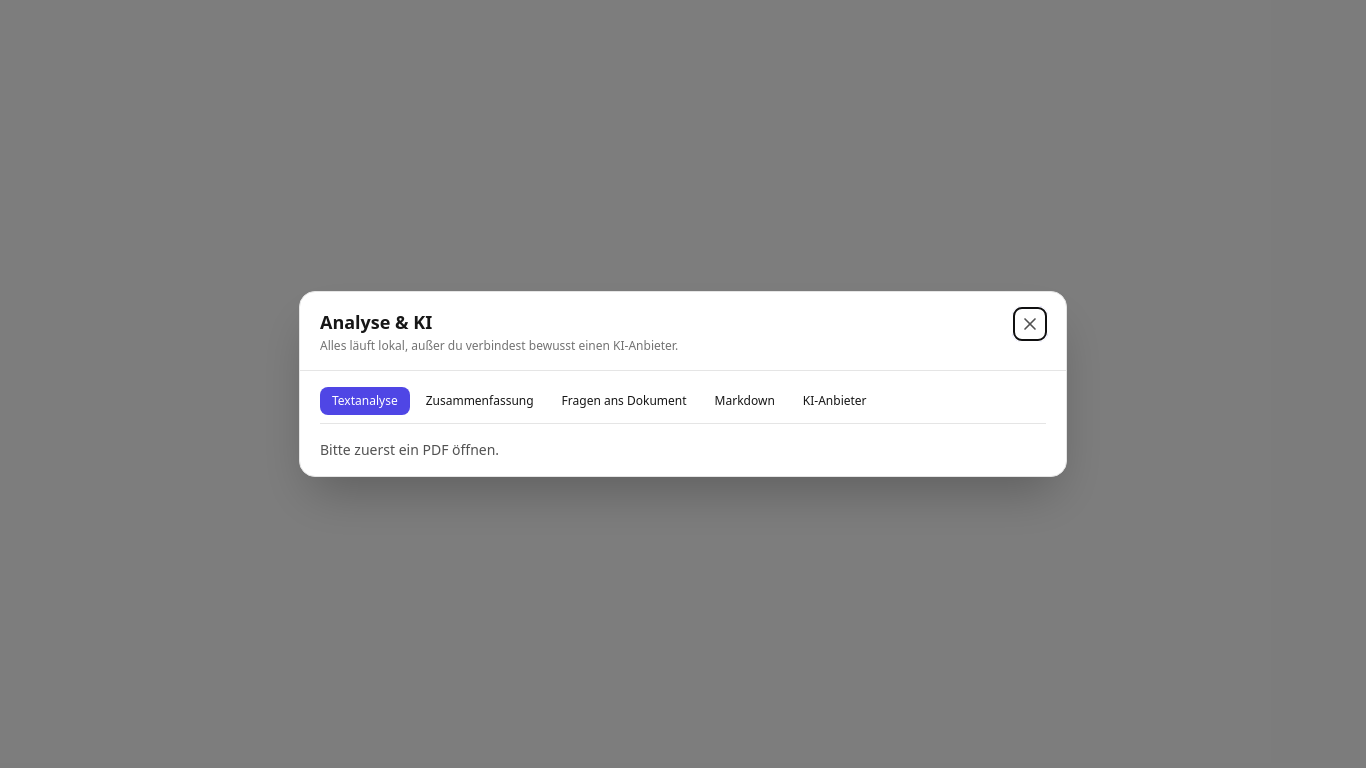
Test: AssistantModal › loads the model list from the provider
Step 1. Click the tab "KI-Anbieter" → (835, 401), box [791, 387, 879, 415]
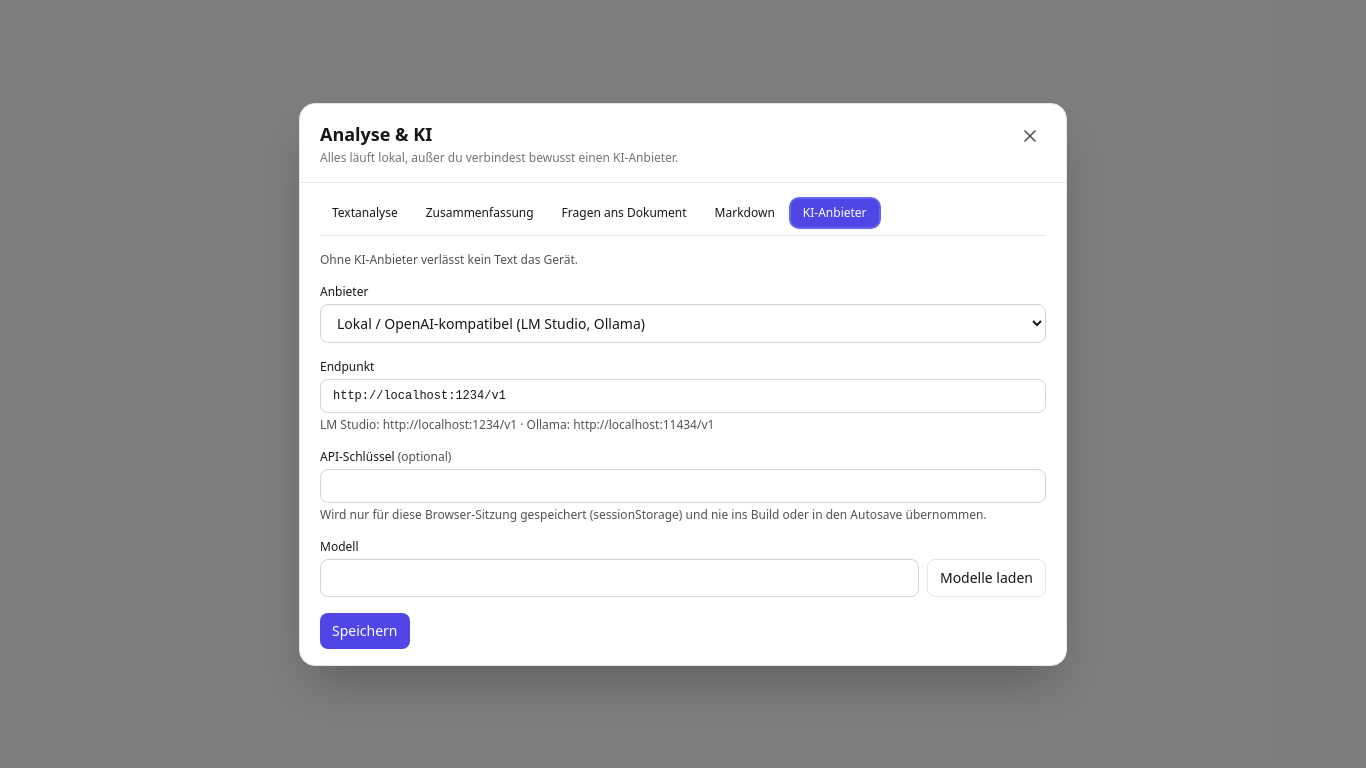
Step 2. Click the button "Modelle laden" → (986, 578), box [927, 558, 1046, 596]
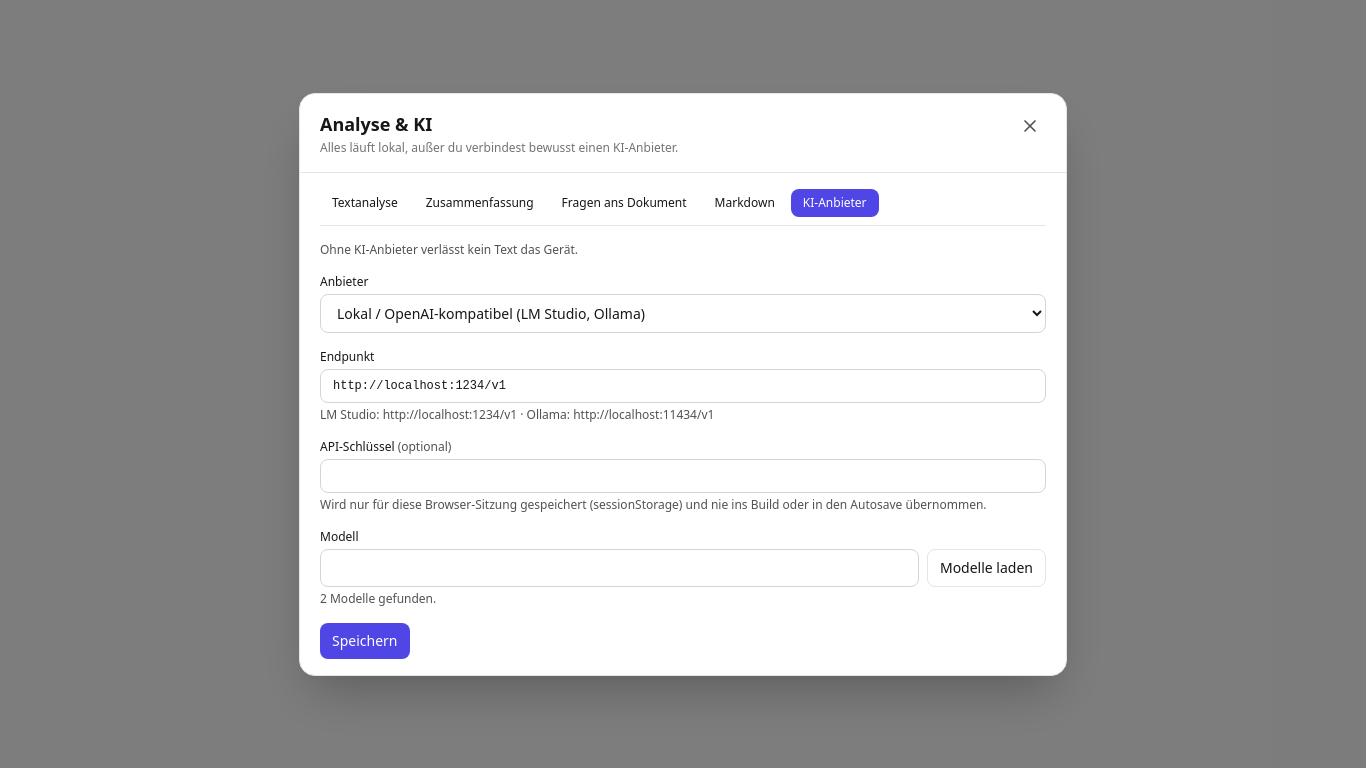
Check: the text "2 Modelle gefunden." is shown, box [320, 590, 436, 606]
Step 3. Select "Google Gemini" in the dropdown labelled "Anbieter" → (683, 313), box [320, 294, 1046, 332]
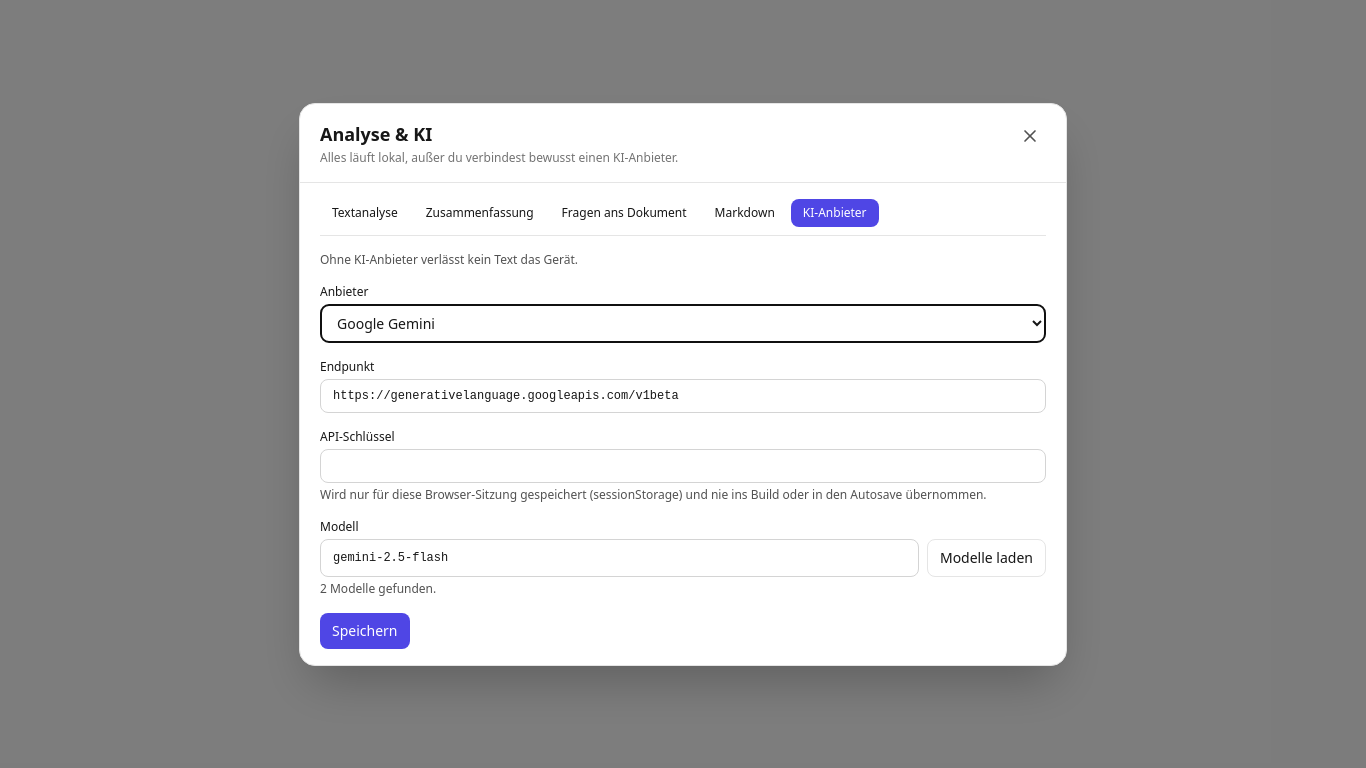
Check: the field labelled "Modell" holds "gemini-2.5-flash", box [320, 538, 919, 576]
Check: the text "LM Studio:" is gone
